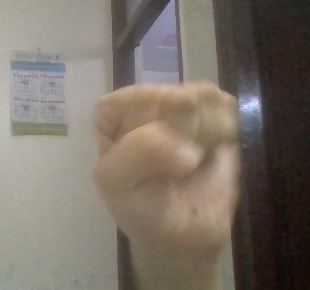click: (71, 72, 274, 252)
